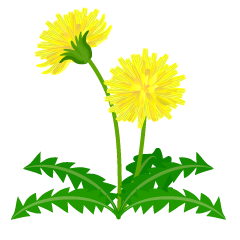dandelion: (41, 16, 102, 74), (110, 58, 175, 111)
